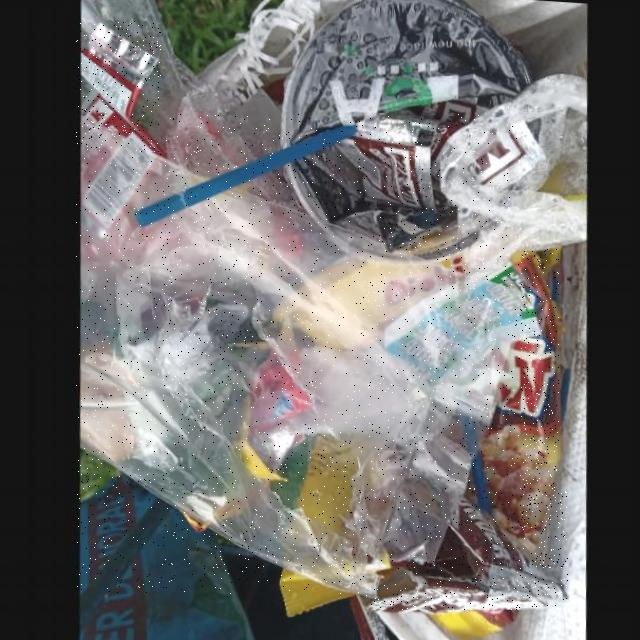plastic: (77, 114, 521, 594)
wrapper: (470, 248, 559, 537), (366, 488, 569, 609), (76, 21, 161, 152), (332, 134, 433, 210)
